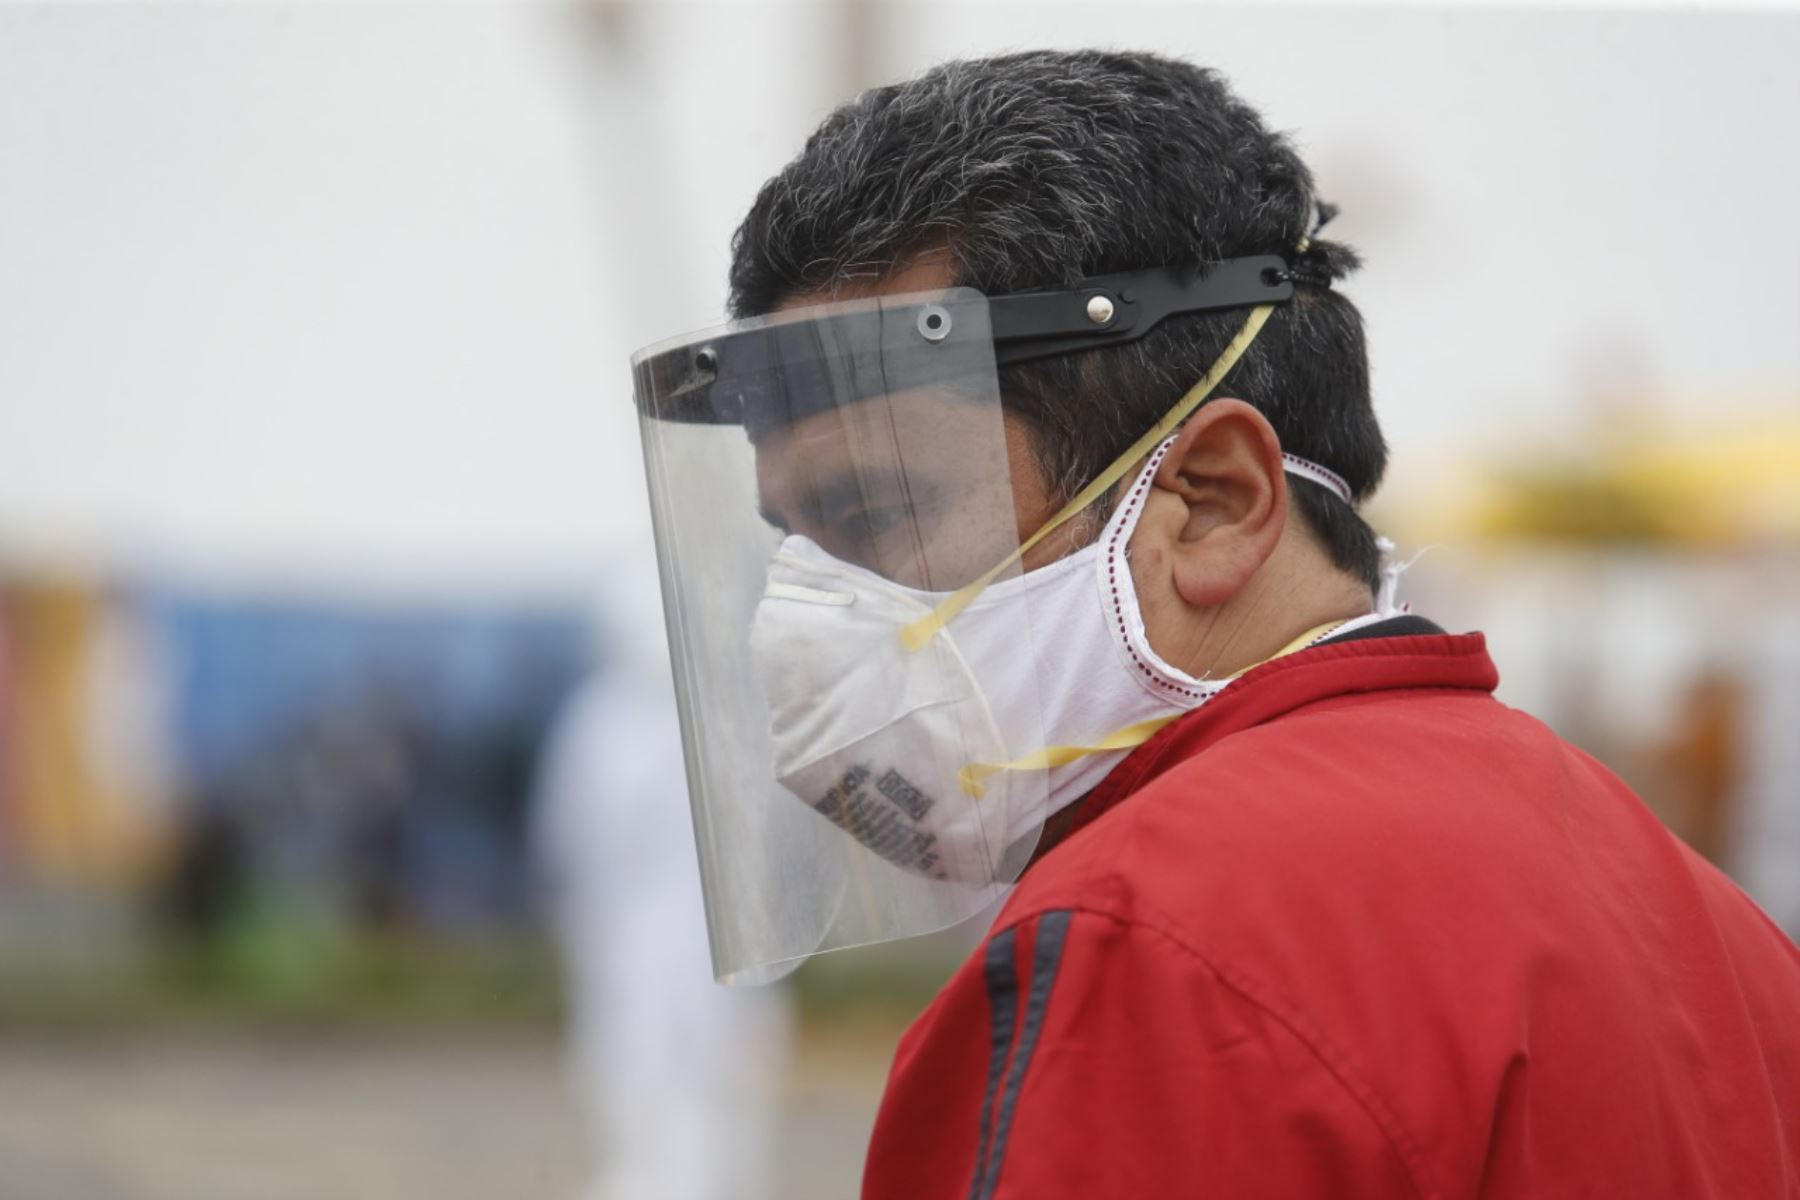with_mask: (640, 53, 1523, 913)
